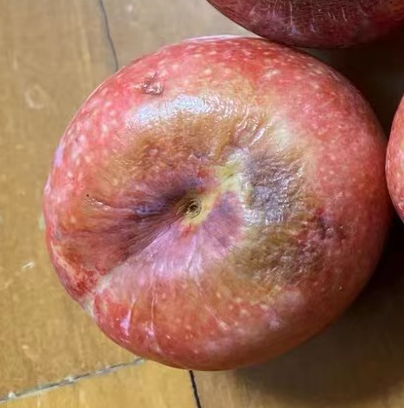plum_C: (43, 35, 394, 371)
